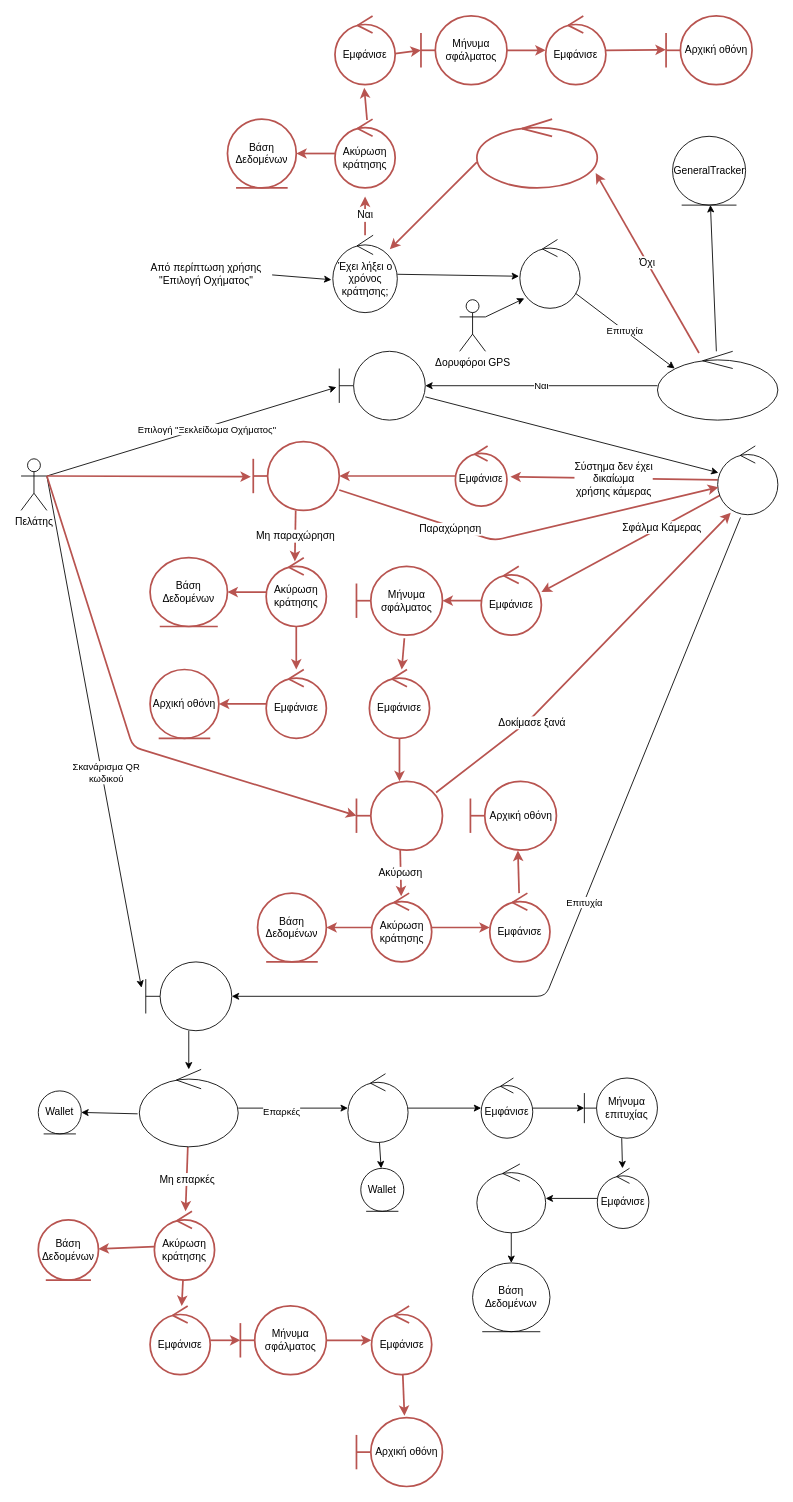
The diagram is 793 pixels wide and 1502 high, and some of its shapes have lost their labels. Here are the shapes that lost their labels. From the top down, the box of each, then its label:
(476, 118, 598, 188): Απενεργοποίηση επιλογής "Ξεκλείδωμα Οχήματος"
(519, 239, 580, 308): Επικοινωνία με GPS
(338, 350, 425, 420): Οθόνη "Ξεκλείδωμα Οχήματος"
(657, 350, 778, 420): Βρίσκεται ο πελάτης εντός μιας συγκεκριμένης απόστασης
(252, 440, 340, 511): Επιλογή παραχώρησης δικαιώματος κάμερας
(717, 445, 778, 515): Άνοιγμα κάμερας
(355, 780, 443, 851): Επιλογή "Δοκίμασε Ξανά"
(145, 961, 232, 1031): Διεπαφή QR-Κάμερας
(138, 1069, 238, 1147): Έλεγχος Απαιτούμενου Ποσού
(347, 1073, 408, 1143): Αφαίρεση χρηματικού ποσού
(476, 1163, 546, 1233): Αποθήκευση
